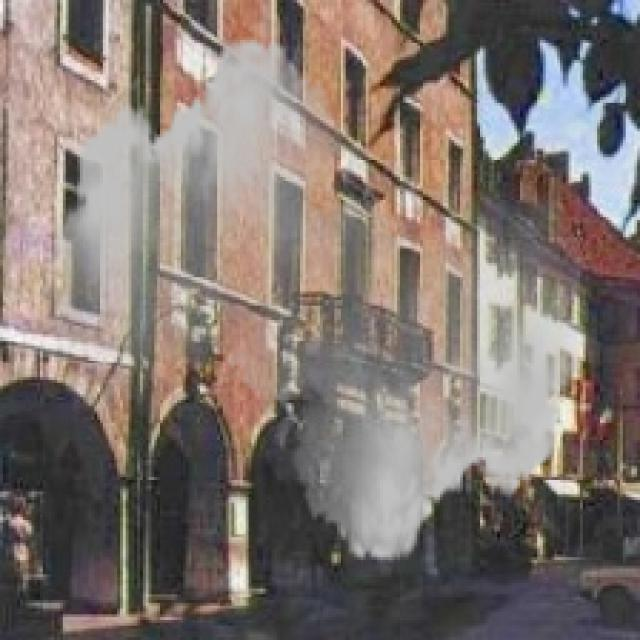smoke: (46, 20, 588, 580)
